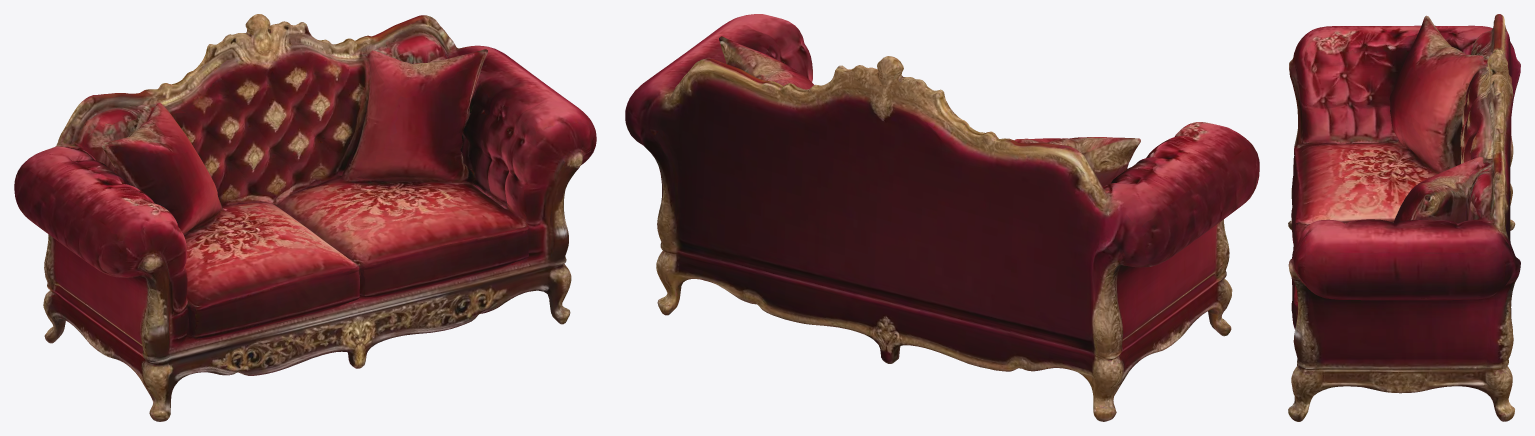
The picture shows the model from 3 angles, left to right: view 1: azimuth 30°, elevation 25°; view 2: azimuth 150°, elevation 25°; view 3: azimuth 270°, elevation 25°; orthographic projection. The views are drawn at different scales.
Parts seen in each view (by area): view 1: Mesh_0_Material_0_0; view 2: Mesh_0_Material_0_0; view 3: Mesh_0_Material_0_0.
Boxes of the visible parts, <box> form: Mesh_0_Material_0_0: <box>14,14,596,421</box>; Mesh_0_Material_0_0: <box>625,14,1259,421</box>; Mesh_0_Material_0_0: <box>1288,14,1520,421</box>.
Bounding box in the file's own units: 2.3 × 1.25 × 0.9632.
1 material, 1 textured.
